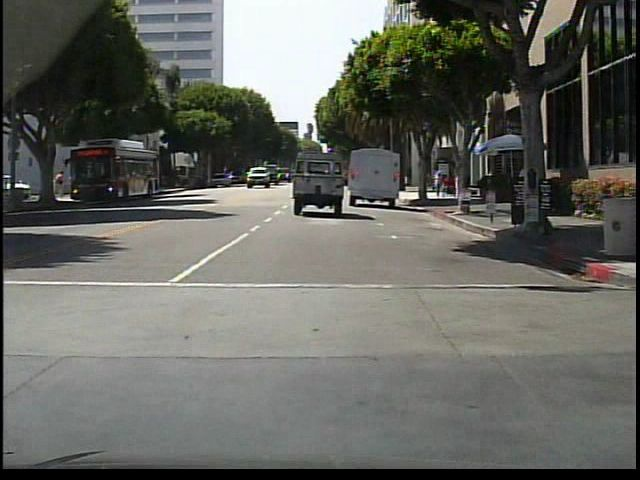person: (424, 167, 433, 200), (433, 170, 443, 198), (55, 171, 65, 199)
